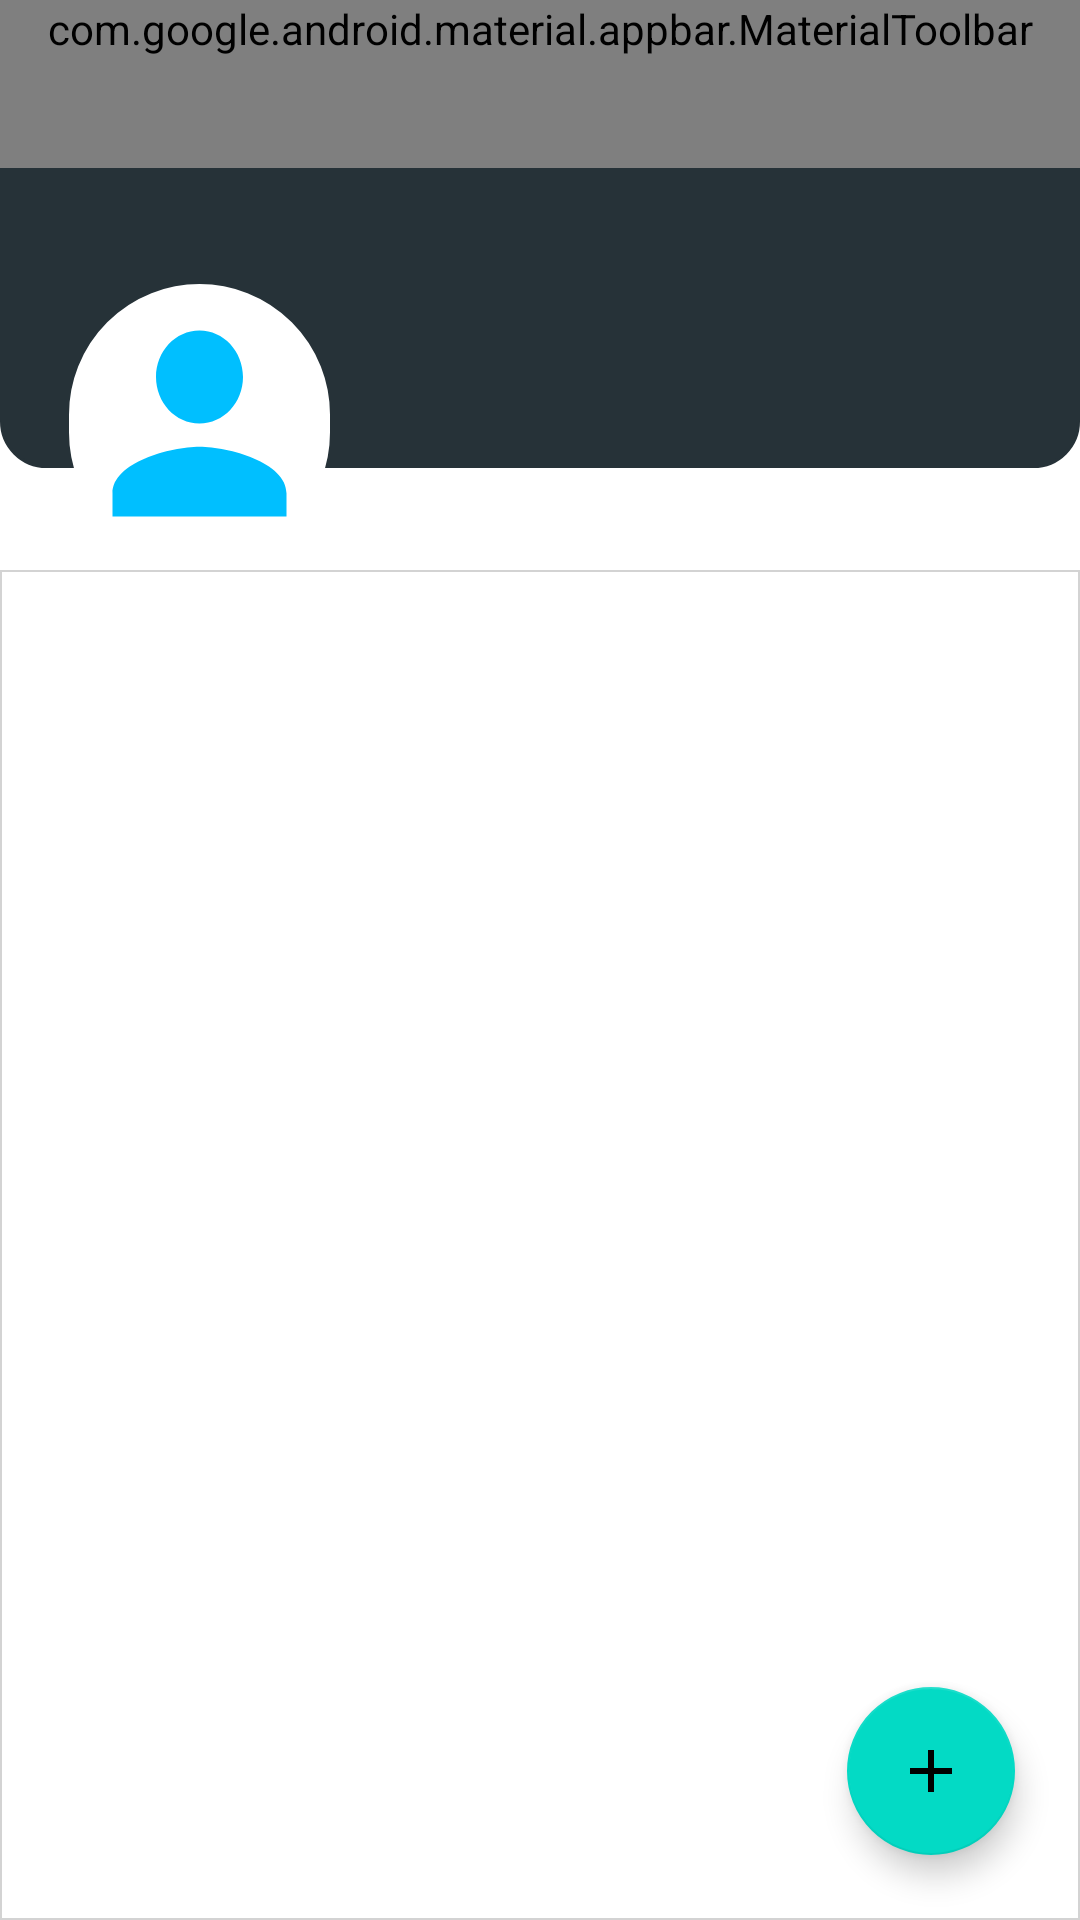

Icon click points for this 1080 x 1920 phone screenshot, format (x,y):
add: (931,1771)
